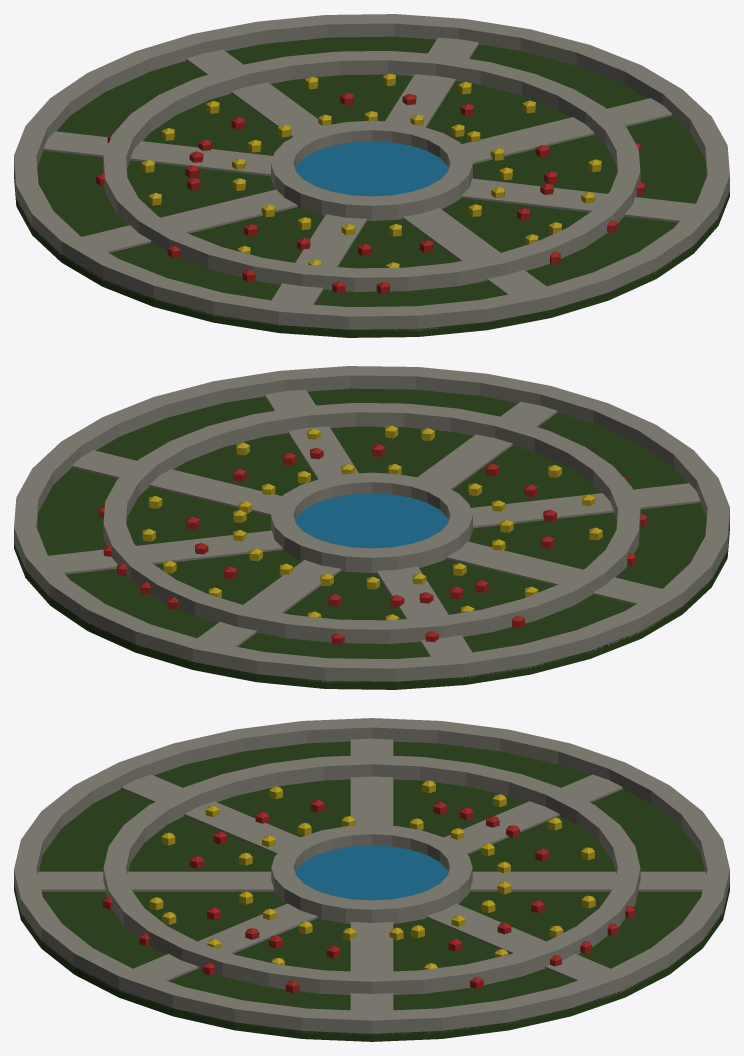
The model's file is formal-garden-star.glb.
3 views of the same model, one above another, from view 1: azimuth 30°, elevation 25°; view 2: azimuth 150°, elevation 25°; view 3: azimuth 270°, elevation 25° (orthographic).
Parts seen in each view (by area): view 1: formal-garden-star; view 2: formal-garden-star; view 3: formal-garden-star.
Boxes of the visible parts, bbox=[...] form: formal-garden-star: bbox=[14, 14, 729, 337]; formal-garden-star: bbox=[14, 366, 729, 689]; formal-garden-star: bbox=[14, 718, 729, 1041].
Size of the model in its own units: 64 by 2.3 by 64.
